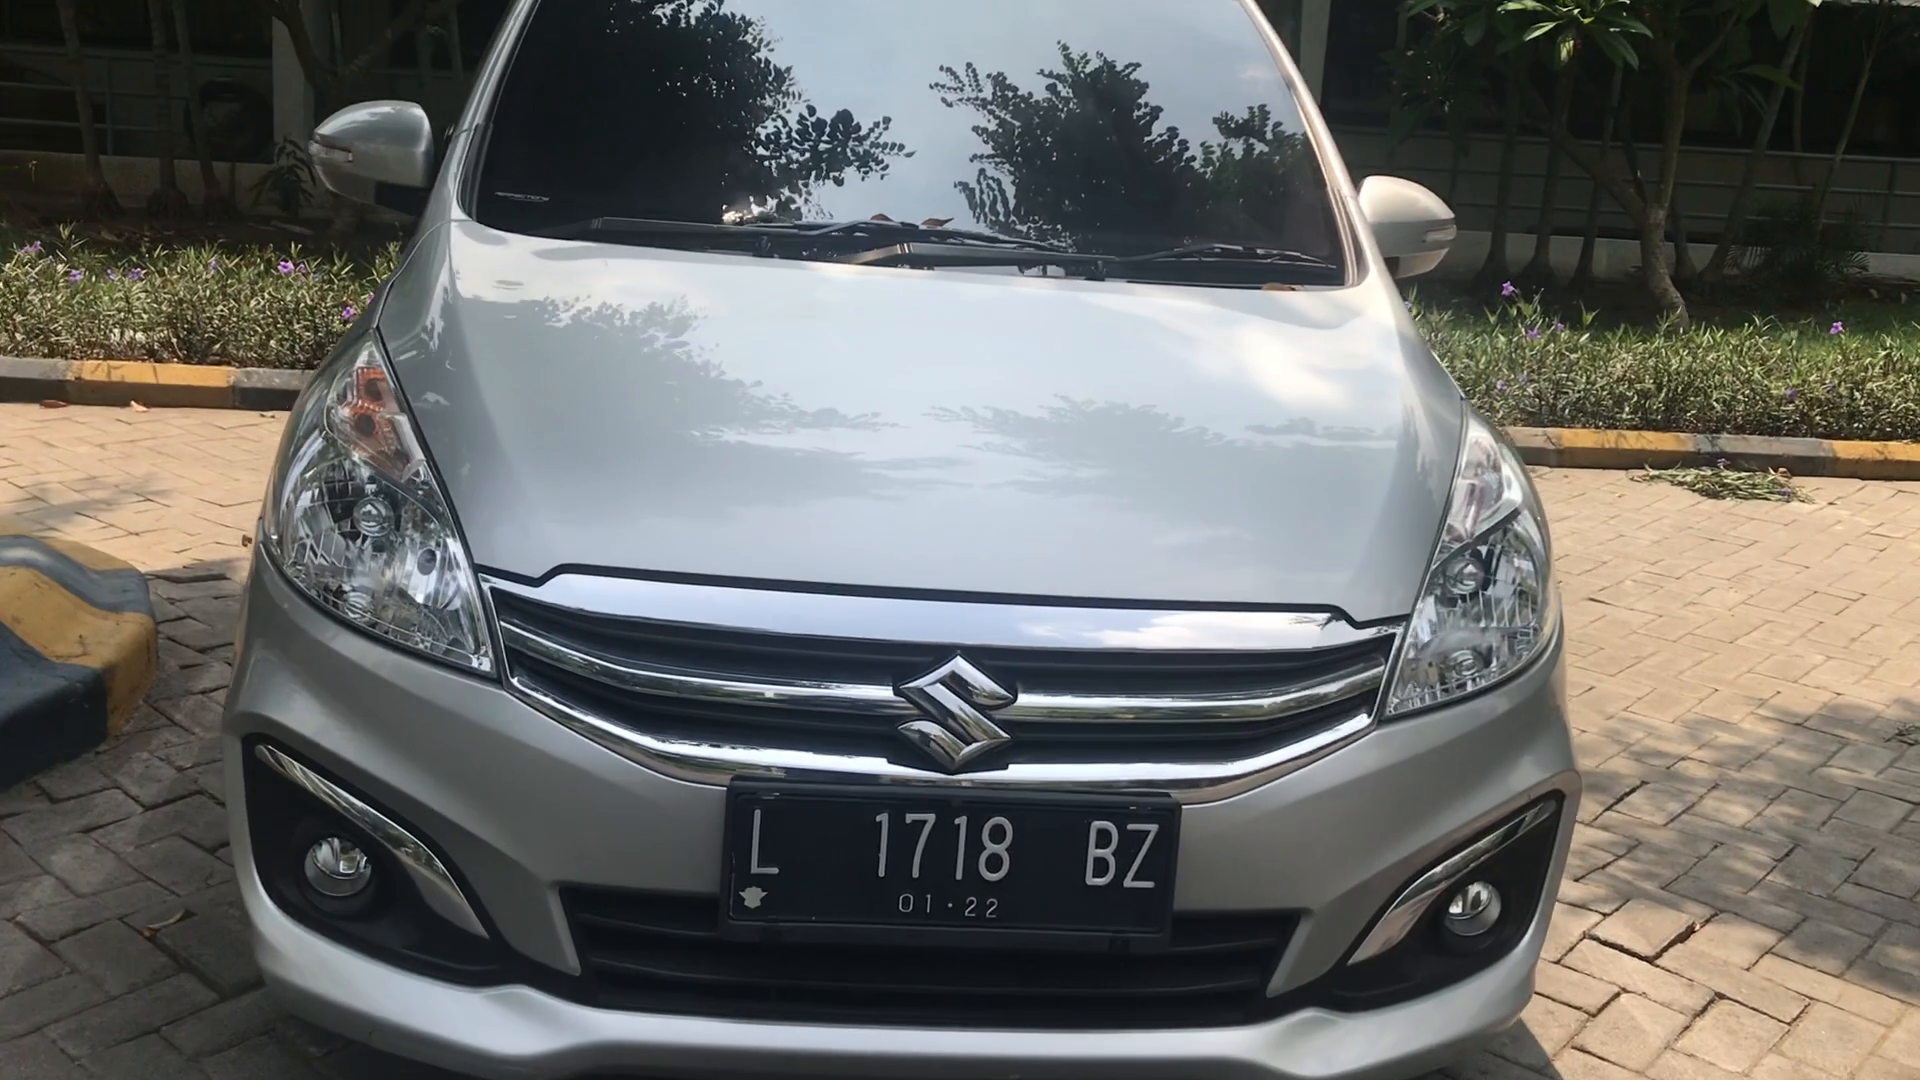plate: (725, 777, 1180, 937)
